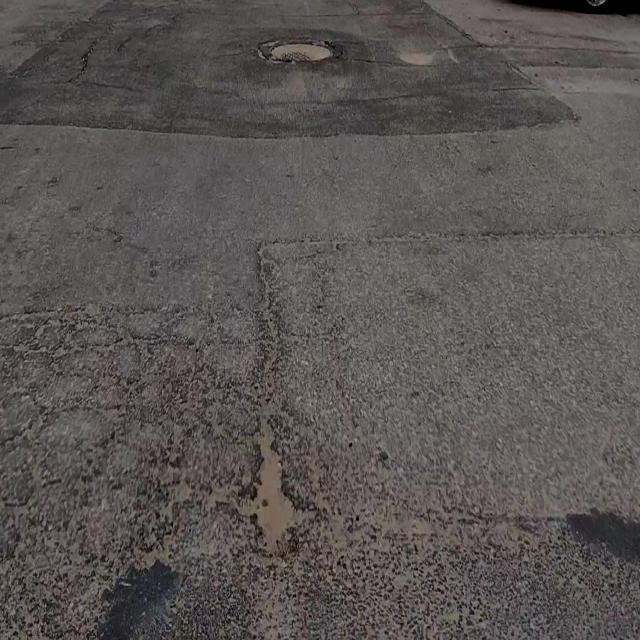Potholes: (266, 35, 331, 64)
